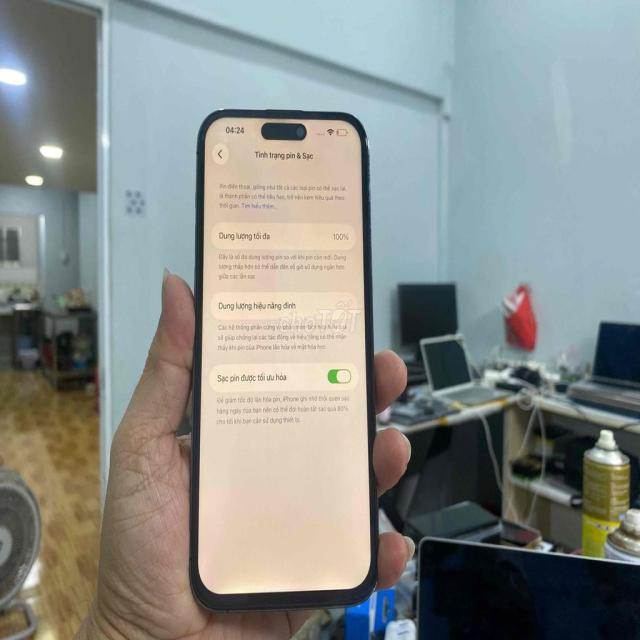gen_14: (180, 95, 392, 615)
